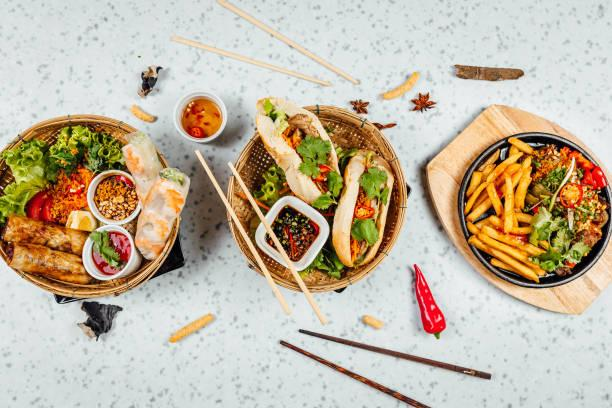Braised Crucian Carp: (225, 104, 405, 293), (1, 113, 179, 296), (457, 132, 608, 289)
